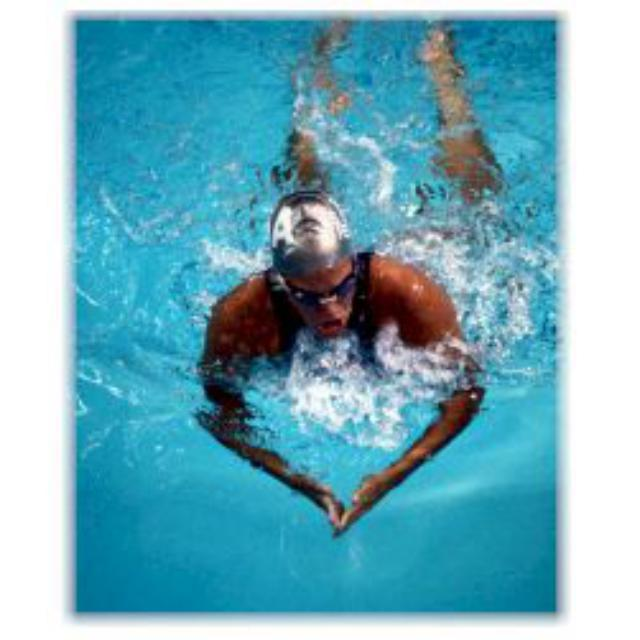human: (195, 28, 488, 532)
